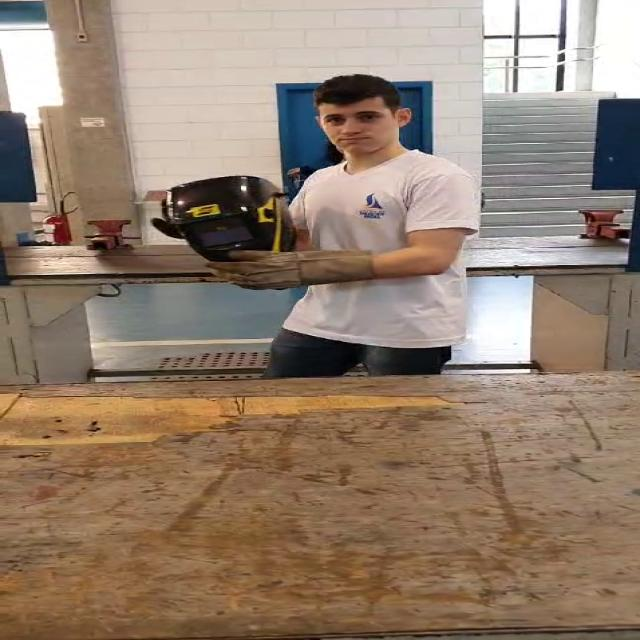sem_oculos: (311, 112, 420, 130)
